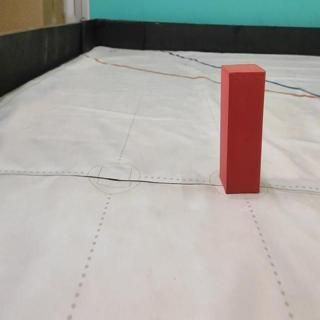redbox: (219, 63, 266, 197)
